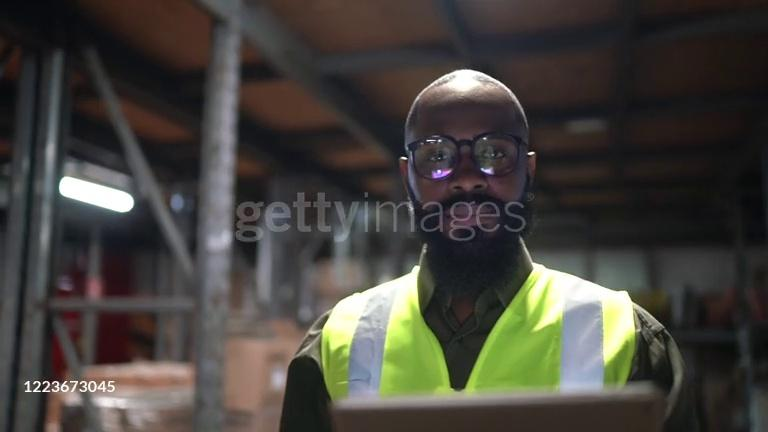person: (273, 68, 689, 426)
